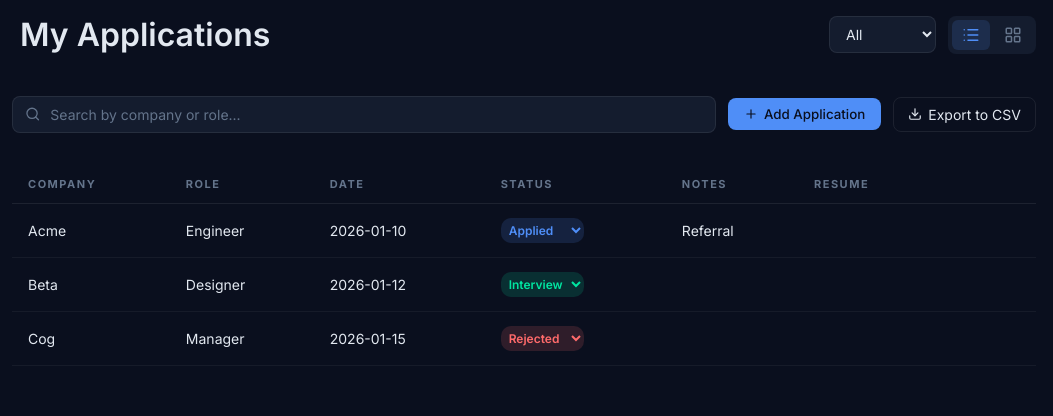
Applied — view toggle › renders the kanban board after toggle
Click the button named "Kanban view" at [1013, 35], box [994,20,1032,50]
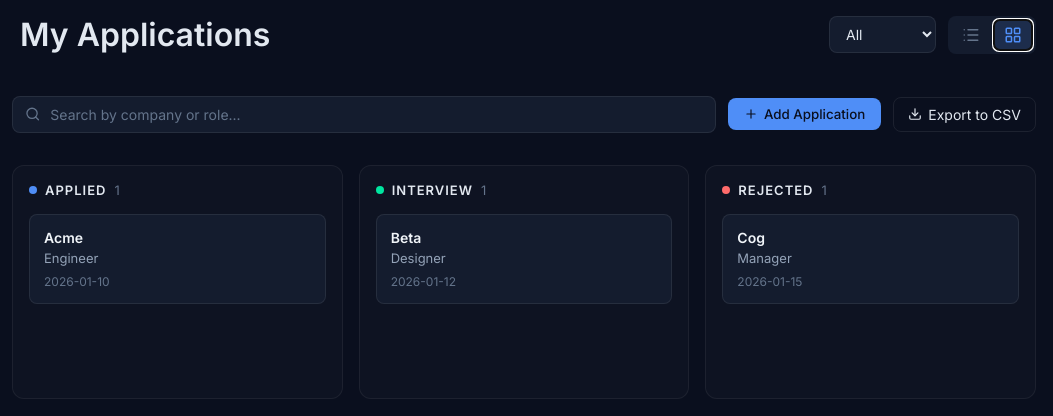
Expected: the number of elements with class "kanban-column" is 3, [12,165,343,399]; [359,165,689,399]; [705,165,1036,399]
Expected: the number of elements with class "kanban-column-header" is 3, [29,182,121,198]; [376,182,487,198]; [722,182,828,198]
